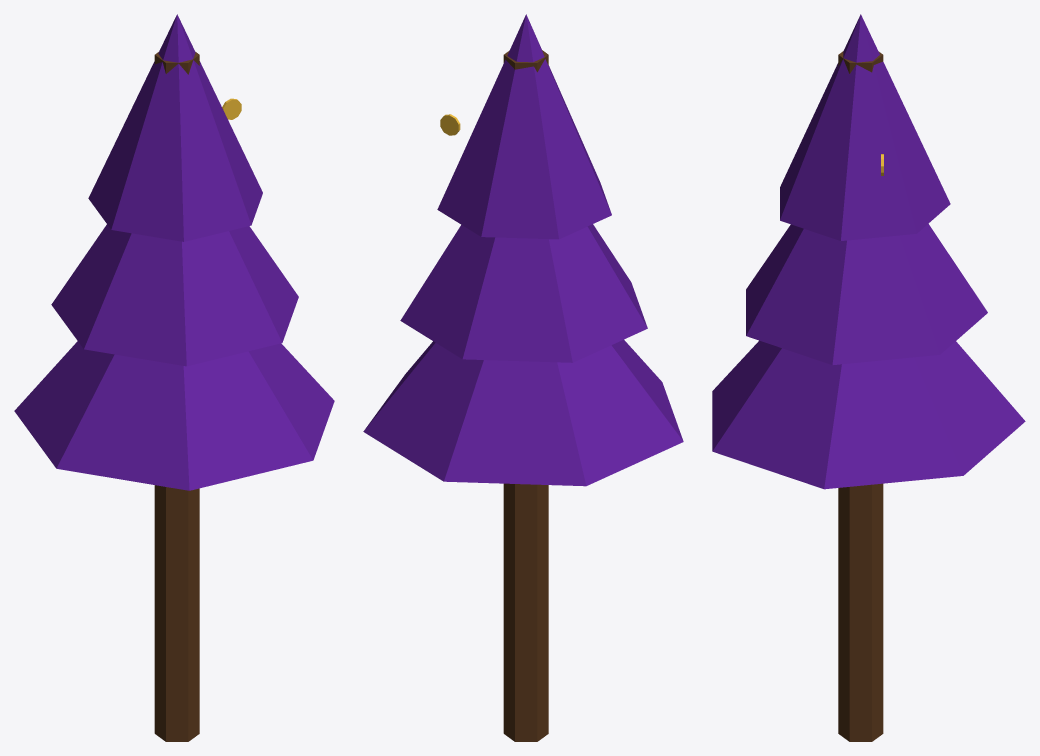
The model's file is Prop_OR_LedgerTree_21.glb.
The picture shows the model from 3 angles, left to right: view 1: azimuth 30°, elevation 25°; view 2: azimuth 150°, elevation 25°; view 3: azimuth 270°, elevation 25°; orthographic projection.
Parts seen in each view (by area): view 1: Prop_OR_LedgerTree_21; view 2: Prop_OR_LedgerTree_21; view 3: Prop_OR_LedgerTree_21.
Part boxes in pixels (x1,y1,x2,y2): Prop_OR_LedgerTree_21: (14, 14, 334, 741); Prop_OR_LedgerTree_21: (363, 14, 683, 741); Prop_OR_LedgerTree_21: (712, 14, 1025, 741).
Bounding box in the file's own units: 2.14 × 5.3 × 2.09.
